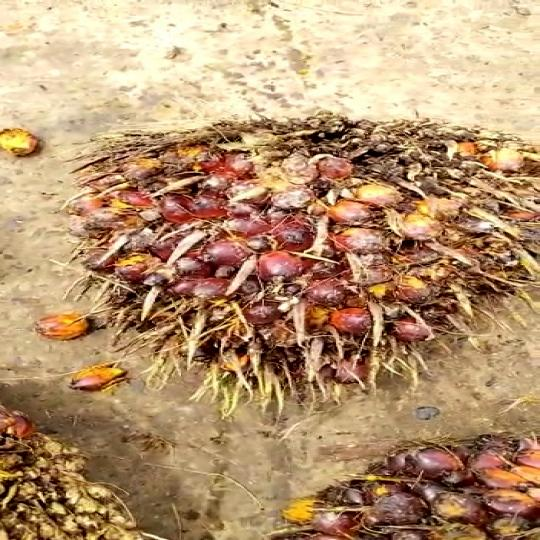masak: (84, 97, 540, 394)
